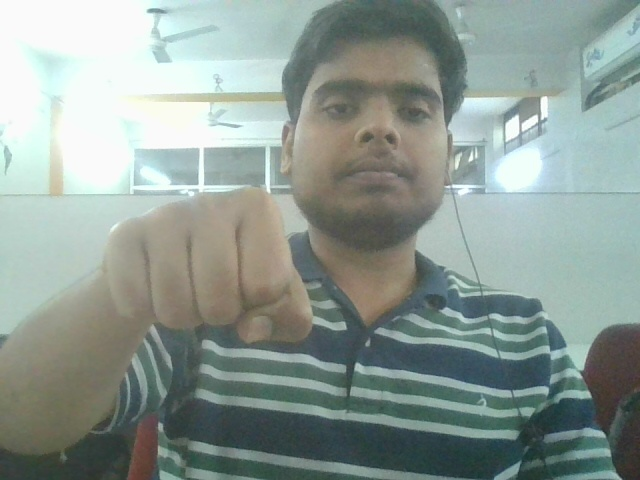Yes: (87, 166, 324, 348)
